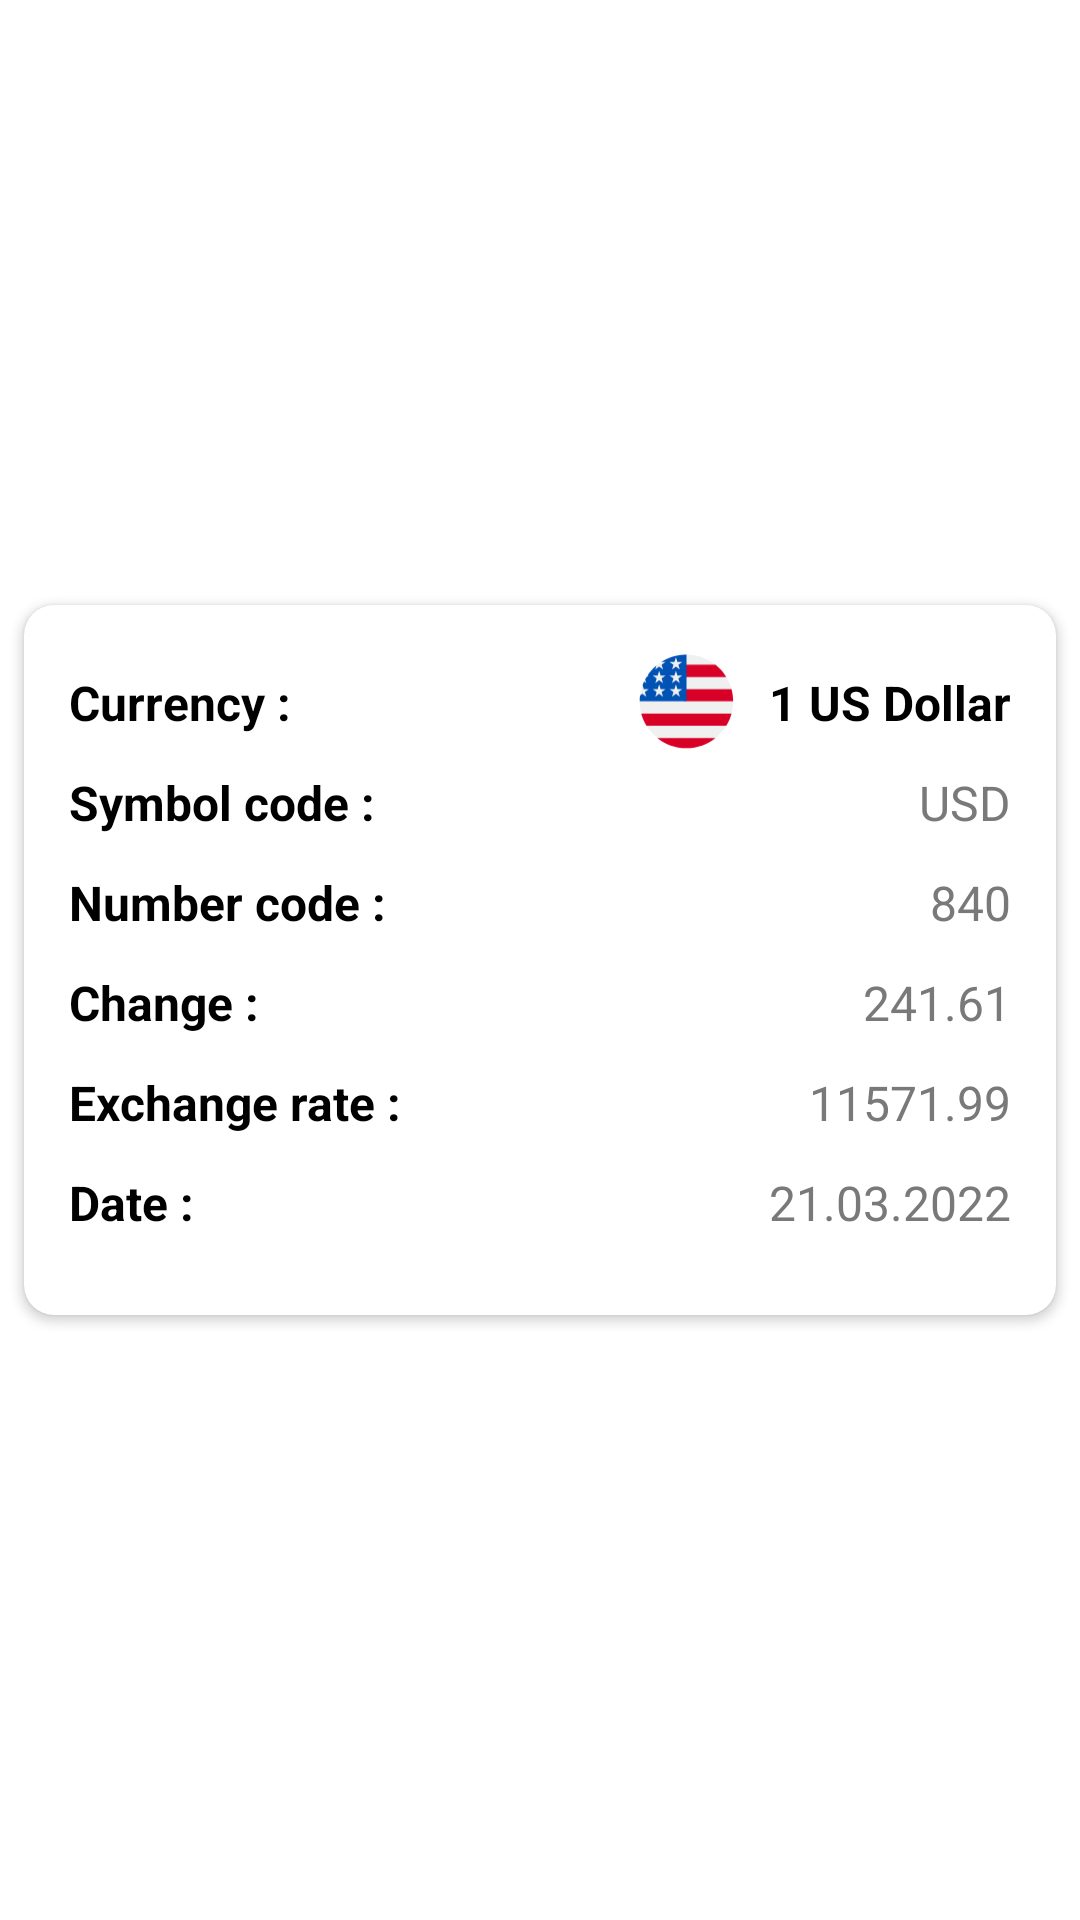

Named icons in this screenshot (1080 × 1920) and their centers, [x,y]:
usd: [686,701]
